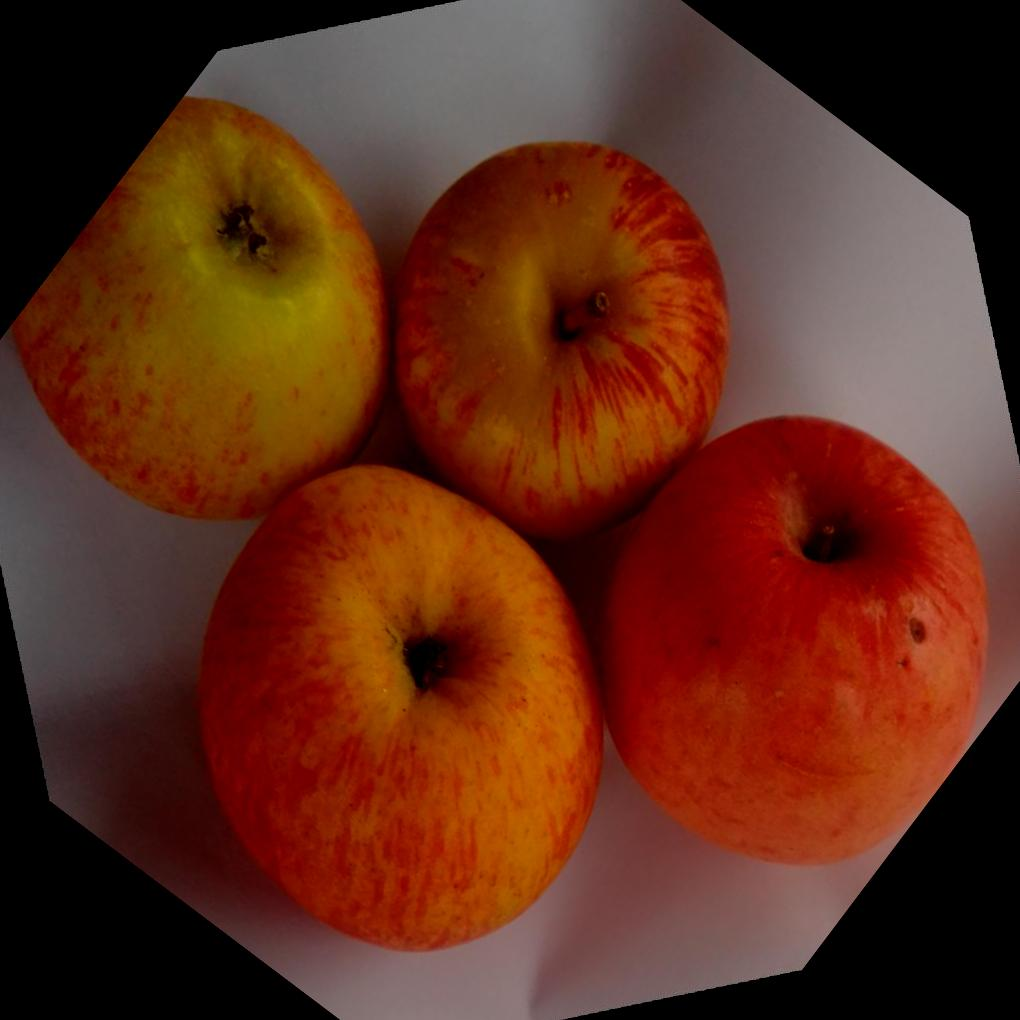FreshGuava: (7, 96, 987, 946)
